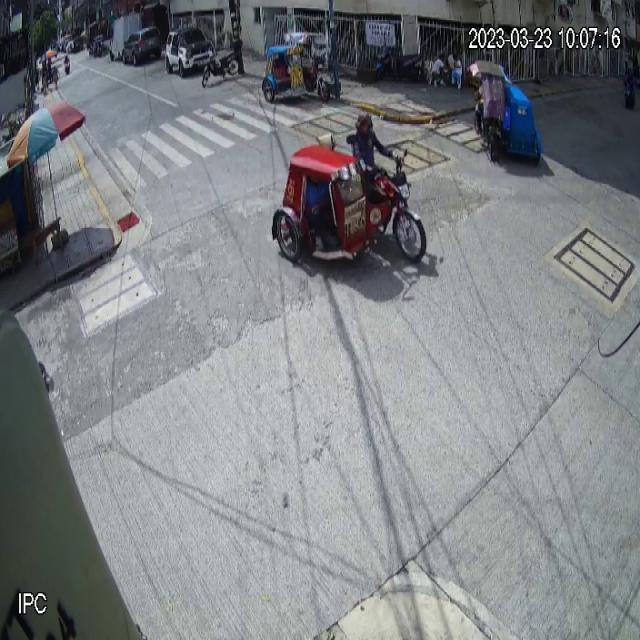Tricycle: (271, 143, 427, 266), (468, 61, 544, 168), (261, 32, 331, 104)
